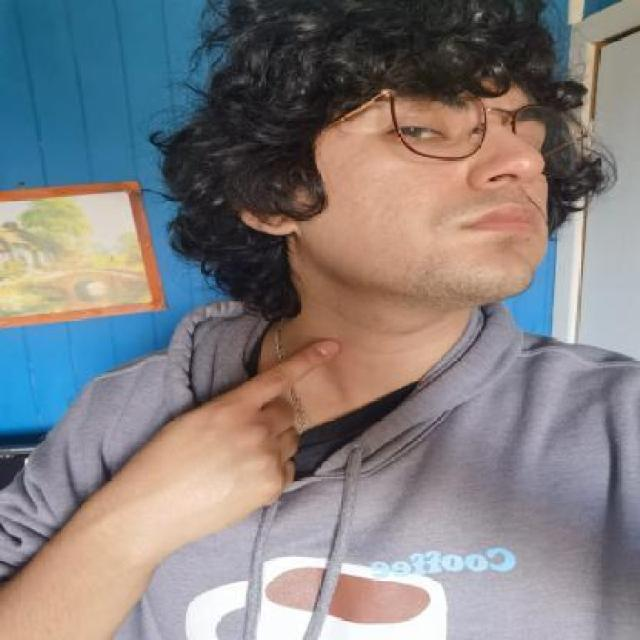Q: (136, 338, 347, 519)
